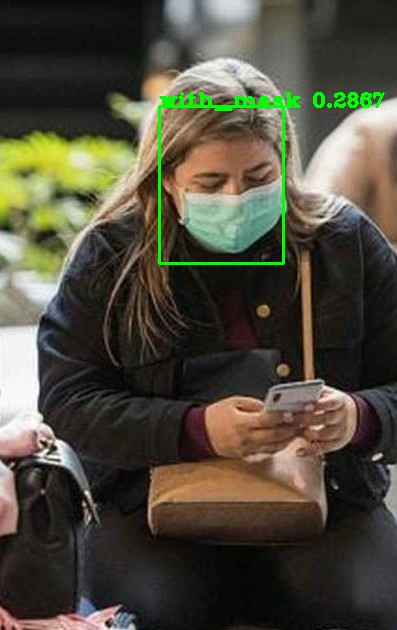with_mask: (155, 93, 300, 257)
